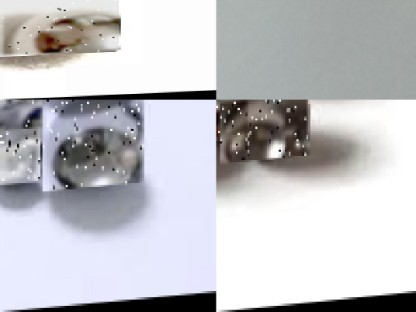ironball: (42, 99, 143, 192), (0, 0, 118, 55), (220, 99, 310, 163), (0, 127, 40, 184), (0, 99, 44, 145), (216, 99, 247, 137)
